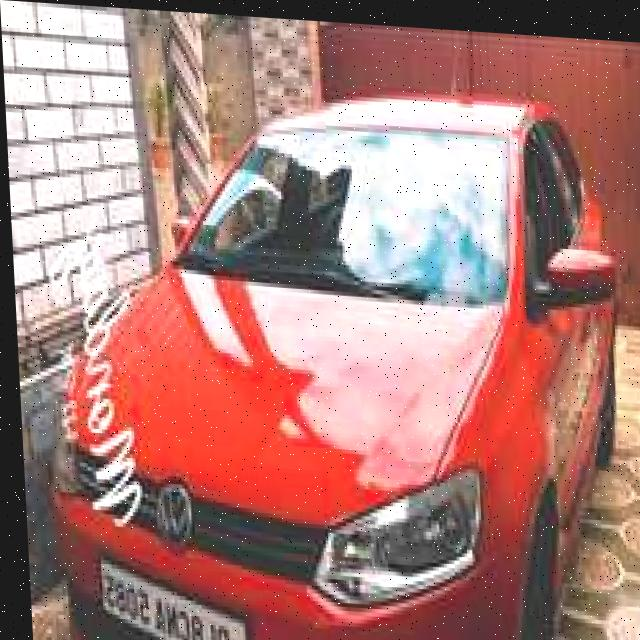plate: (95, 555, 245, 640)
